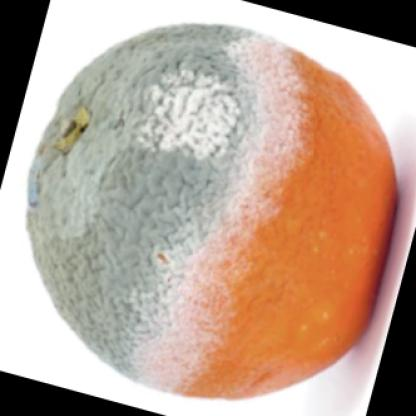rotten: (31, 25, 400, 399)
